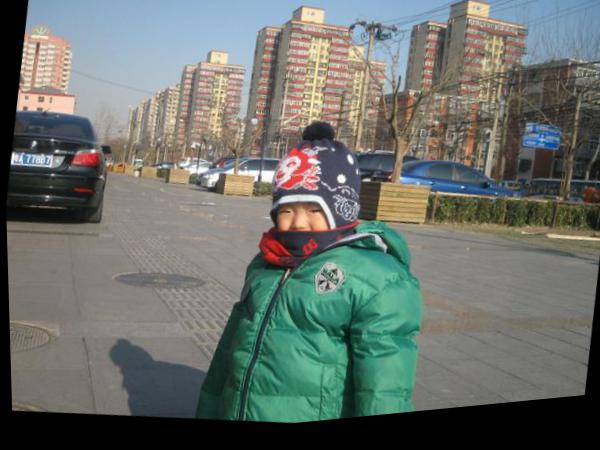WRONG: (267, 197, 335, 270)
